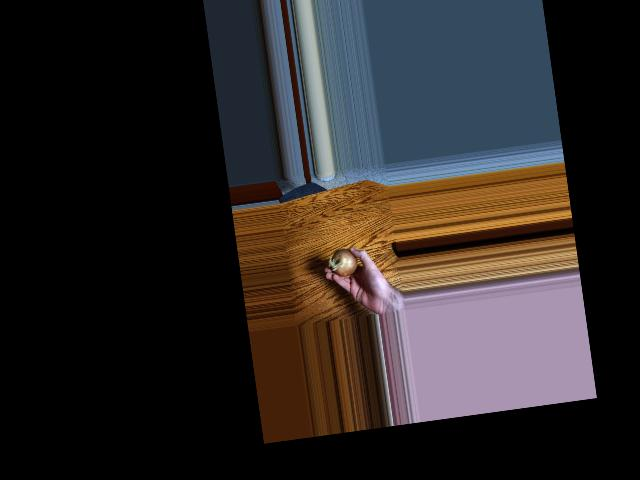onion: (330, 247, 359, 280)
